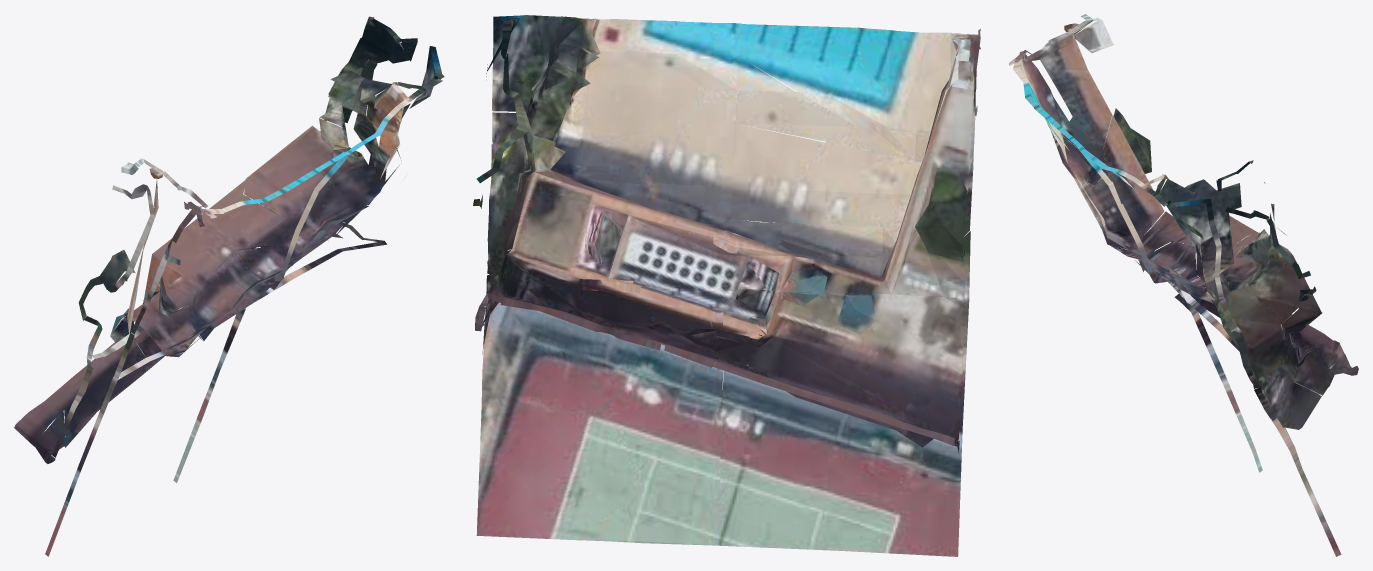
Rendered from AJVsH2zIfd-iUXJ8l5RSJzomUGSa51ekQmWEhvE5lOqY8V6-VDGVdiHAbG6ie1OYO-kL3dBFa-ja1kseziUvuPXHx1g_64dWq2KDGVAd0CfRU6LWznSRpsjw4-tM_2mrOKfQ6pE9MpgQ7935YFk01JQSfmTK.glb.
3 views of the same model, side by side, from view 1: azimuth 30°, elevation 25°; view 2: azimuth 150°, elevation 25°; view 3: azimuth 270°, elevation 25° (orthographic). The views are drawn at different scales.
Size of the model in its own units: 39.32 by 38.23 by 30.06.
2 materials, 2 textured.
